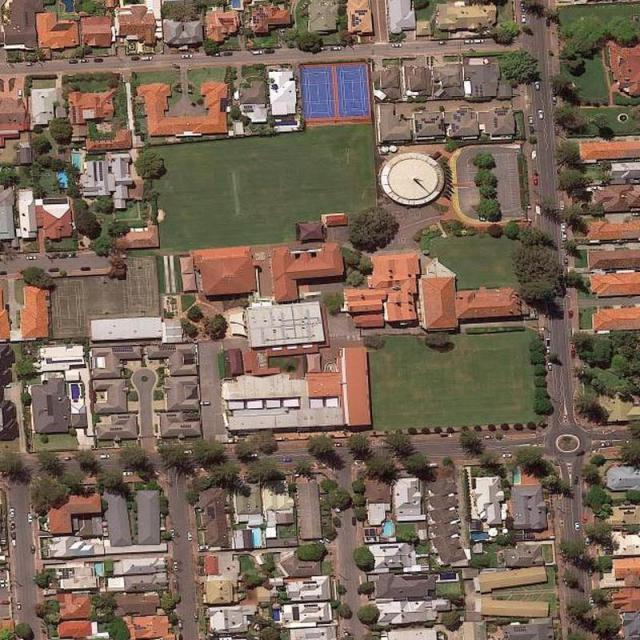vehicle: (575, 449, 584, 456), (194, 610, 199, 622), (199, 400, 210, 405), (10, 507, 15, 518), (351, 515, 356, 526), (552, 95, 557, 105), (538, 109, 543, 119), (562, 231, 567, 241), (281, 457, 291, 462), (330, 46, 342, 50), (575, 522, 580, 531), (520, 13, 525, 22), (333, 442, 342, 447), (30, 545, 35, 554), (264, 50, 275, 54), (122, 471, 133, 475), (589, 566, 593, 577), (182, 54, 192, 58), (392, 43, 402, 47), (474, 39, 484, 43), (561, 223, 566, 231), (602, 442, 610, 447), (17, 602, 22, 610), (170, 530, 175, 538), (200, 546, 210, 550), (174, 561, 178, 571), (69, 60, 78, 64), (80, 58, 89, 62), (94, 58, 103, 62), (253, 50, 262, 54), (571, 350, 575, 359), (590, 597, 594, 606), (590, 186, 599, 190), (535, 82, 540, 89), (11, 532, 16, 539), (141, 57, 152, 60), (246, 453, 257, 456), (18, 90, 22, 98), (26, 62, 34, 66), (131, 57, 139, 61), (225, 53, 233, 57), (560, 202, 564, 210), (570, 310, 574, 318), (548, 363, 552, 371), (546, 346, 550, 354), (574, 476, 578, 484), (28, 514, 32, 522), (188, 532, 192, 540), (26, 257, 36, 260), (324, 538, 330, 543), (534, 178, 538, 185), (586, 538, 590, 545), (11, 522, 15, 529), (178, 621, 182, 628), (438, 42, 447, 45), (99, 454, 108, 457), (465, 39, 473, 42), (529, 118, 533, 124), (564, 259, 568, 265), (502, 454, 510, 457), (215, 54, 222, 57), (12, 540, 15, 546), (486, 436, 494, 438)
